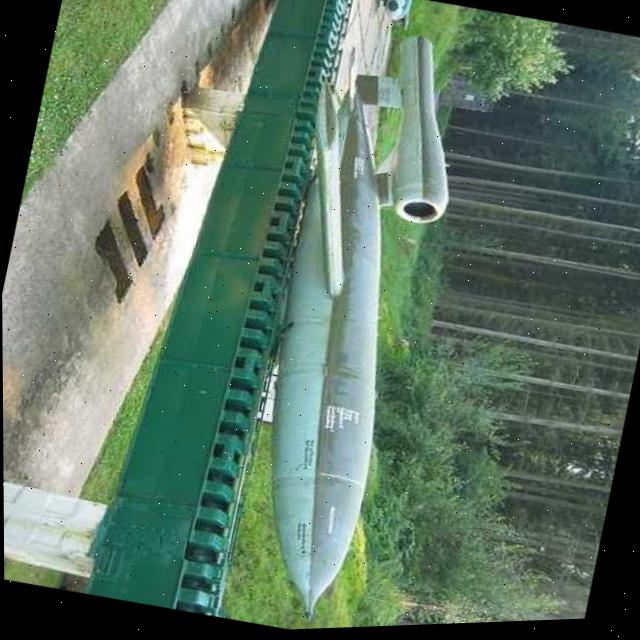missile: (214, 14, 489, 634)
